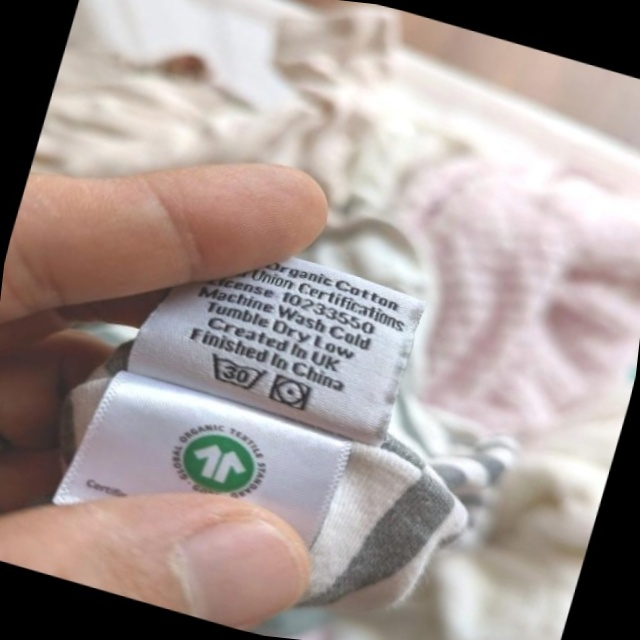30C: (198, 347, 273, 399)
tumble_dry_low: (264, 369, 318, 417)
